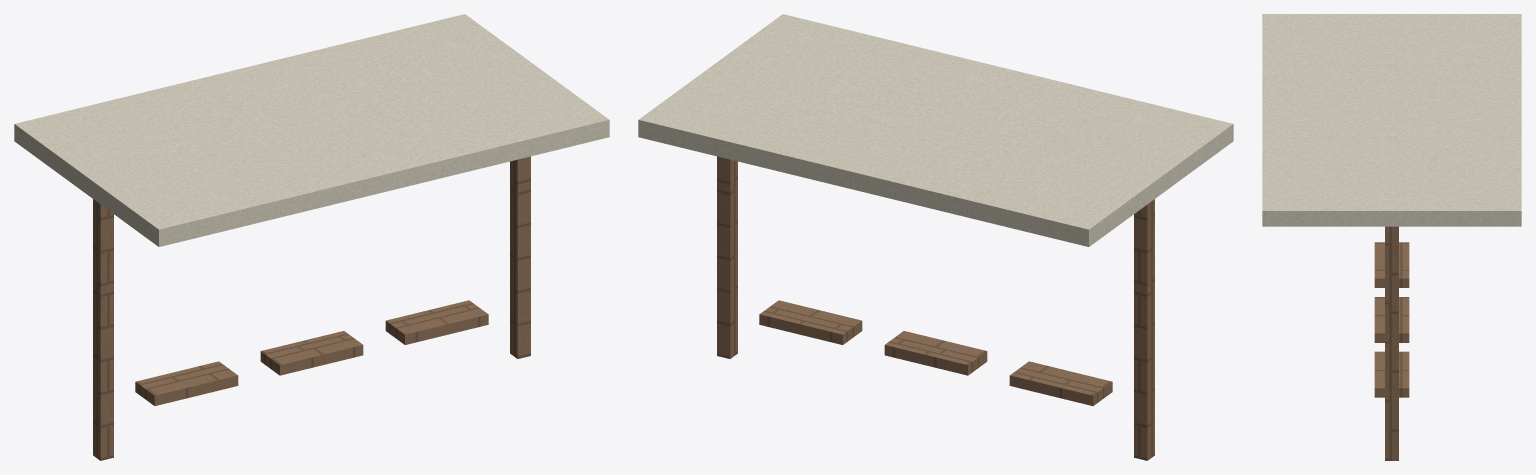
The model's file is shade-shelter.glb.
3 renders of one model, left to right at view 1: azimuth 30°, elevation 25°; view 2: azimuth 150°, elevation 25°; view 3: azimuth 270°, elevation 25°, orthographic. The views are drawn at different scales.
Bounding box in the file's own units: 5.4 × 3.25 × 3.
Materials: 2 (2 with a texture image).
